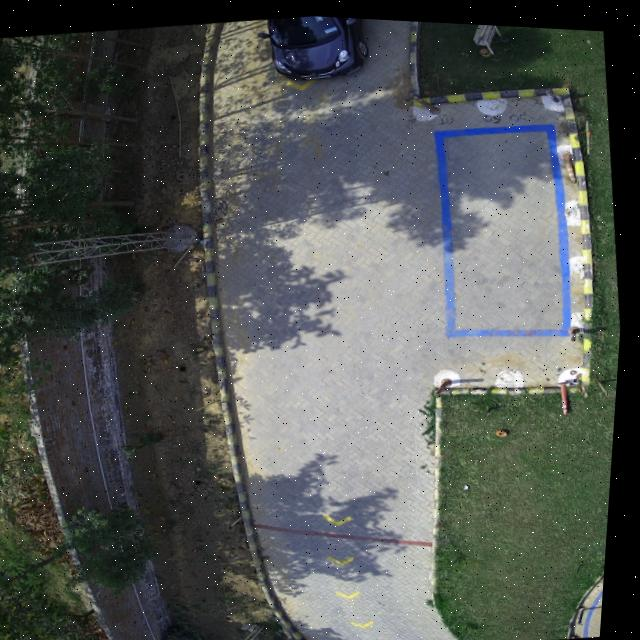car: (268, 12, 367, 75)
